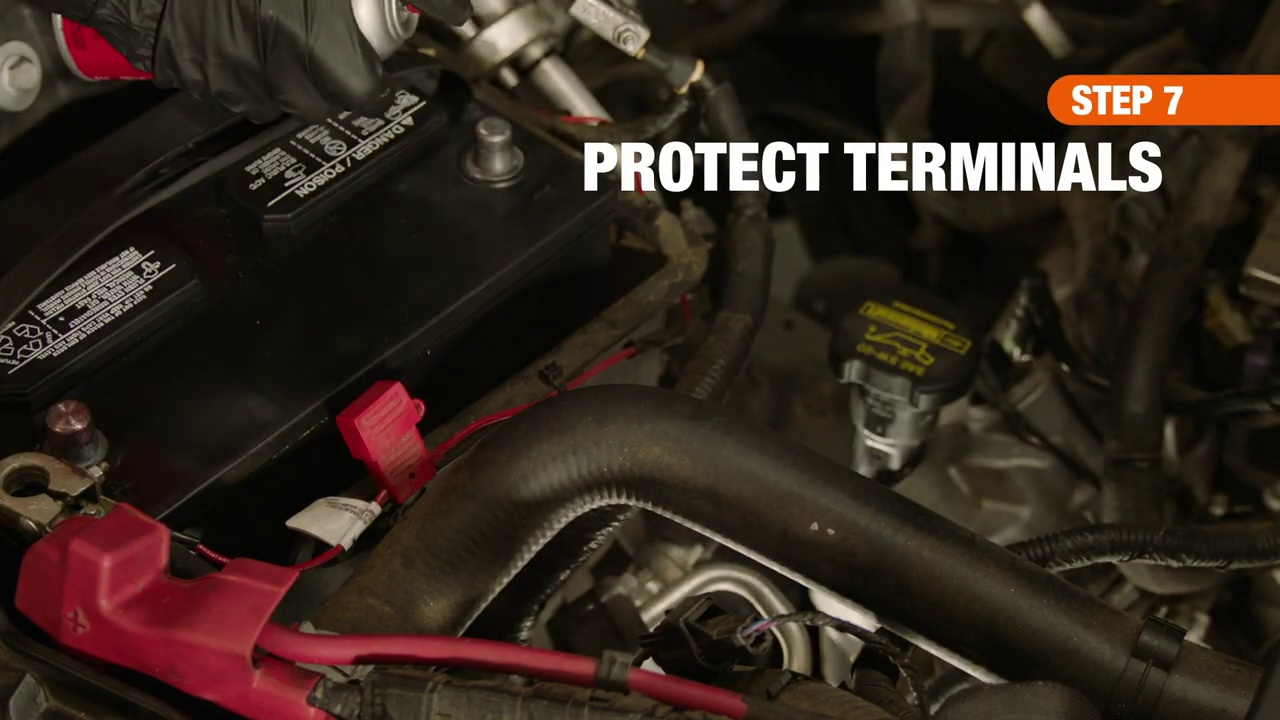battery: (17, 32, 624, 618)
neg_disconnected: (439, 86, 549, 206)
pos_disconnected: (14, 385, 135, 587)
